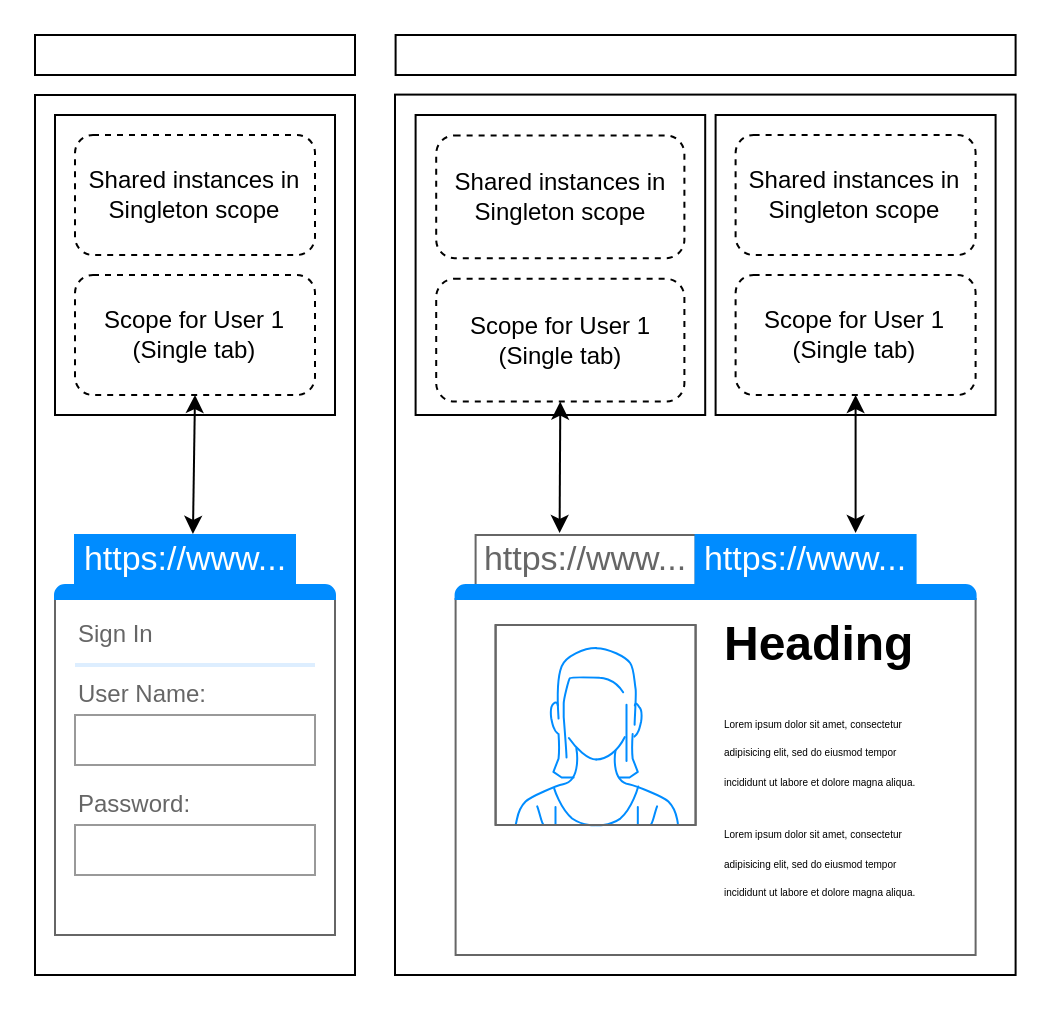
The diagram is 1052 pixels wide and 1010 high, and some of its shapes have lost their labels. Each missing label, with the box of its shape:
Computer 1: (33, 33, 355, 75)
Computer 2: (394, 33, 1016, 75)
